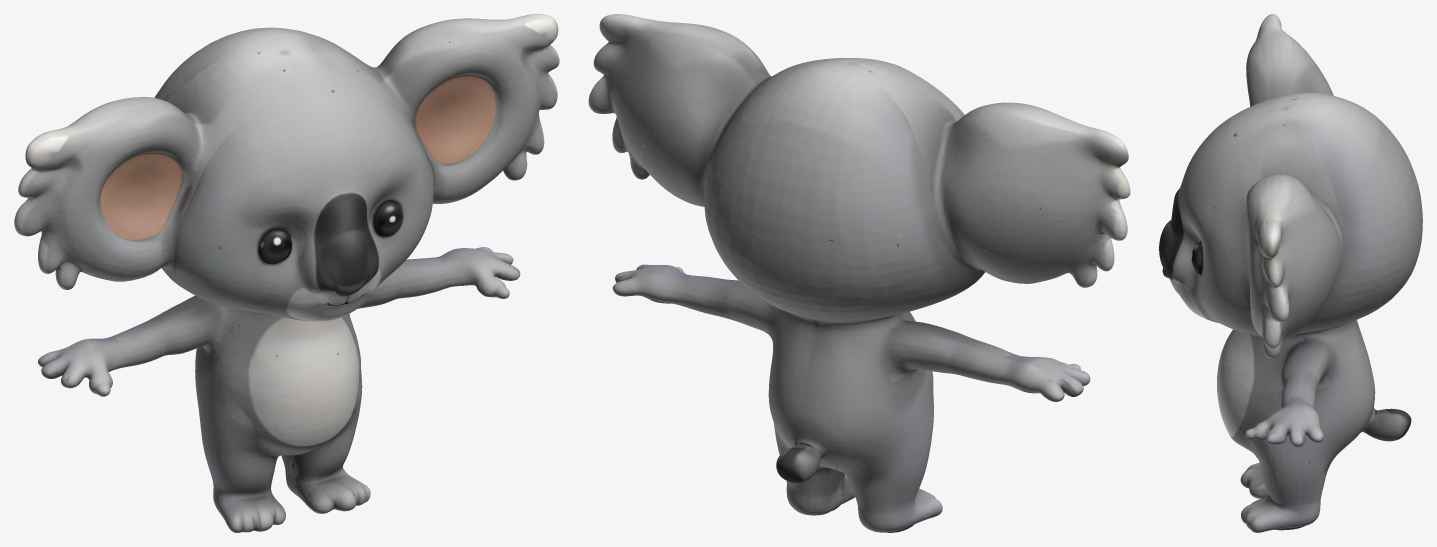
Rendered from Koala_Hugger_0717175606_texture.fbx.
3 views of the same model, side by side, from view 1: azimuth 30°, elevation 25°; view 2: azimuth 150°, elevation 25°; view 3: azimuth 270°, elevation 25° (orthographic). The views are drawn at different scales.
Visible parts, largest first — view 1: Mesh_0; view 2: Mesh_0; view 3: Mesh_0.
Part boxes in pixels (box(x1,y1,x2,y2)): Mesh_0: box(14, 14, 559, 532); Mesh_0: box(588, 14, 1130, 532); Mesh_0: box(1159, 14, 1422, 532).
Size of the model in its own units: 200 by 163 by 95.92.
1 material, 1 textured.
